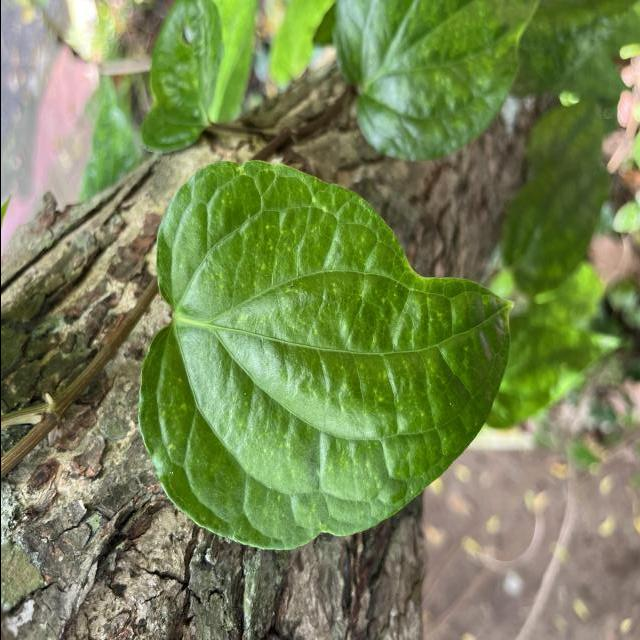Piper betle: (136, 158, 516, 552)
